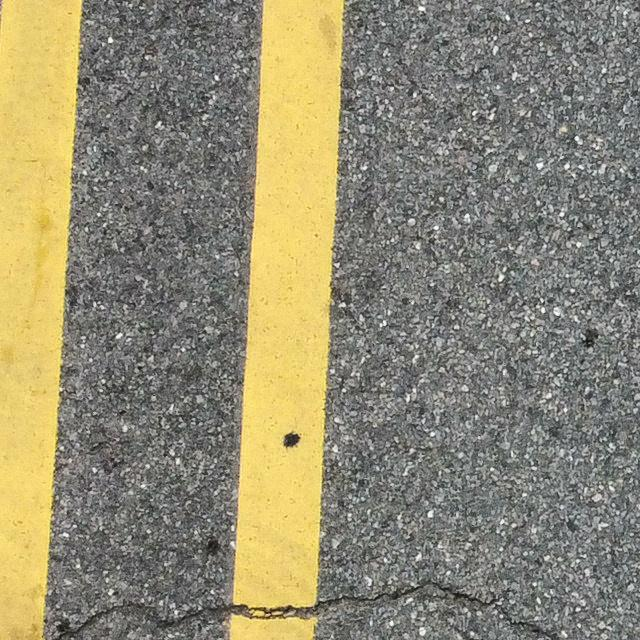TransverseCrack: (57, 578, 557, 640)
